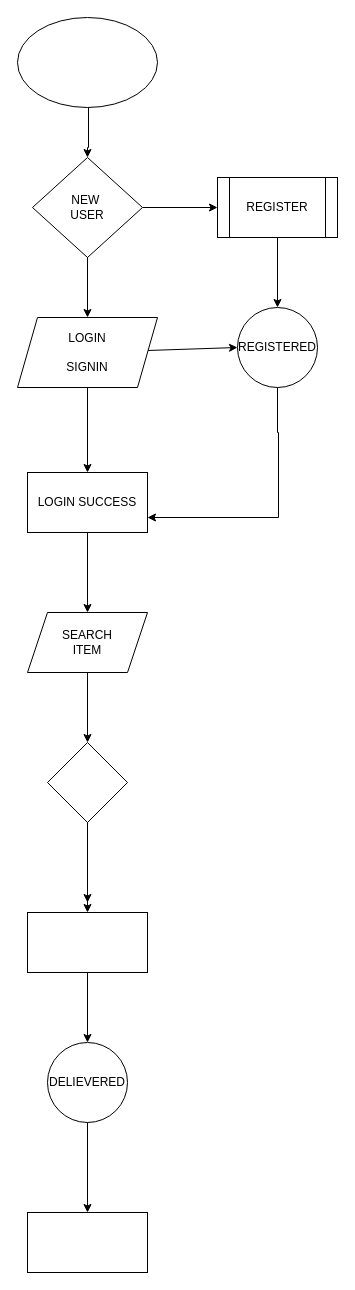
Image size: 355x1290. Some labels were removed from this diagram. The shapes that lost their labels are listed below. From the top down, each one's centre as x and y in pixels, then its label:
point (87, 62): INSTALL APPLICATION
point (87, 782): ORDER
point (87, 942): PAYMENT ONLINE UPI
point (87, 1242): SUCCESSFUL
